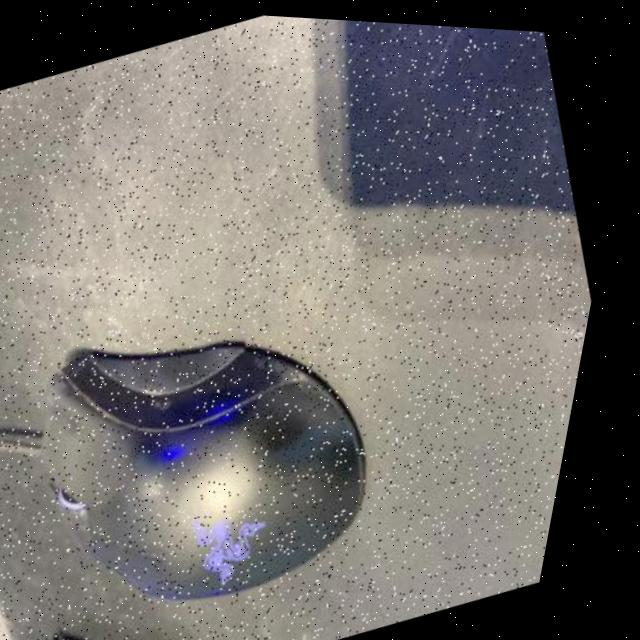mause: (0, 113, 582, 640)
